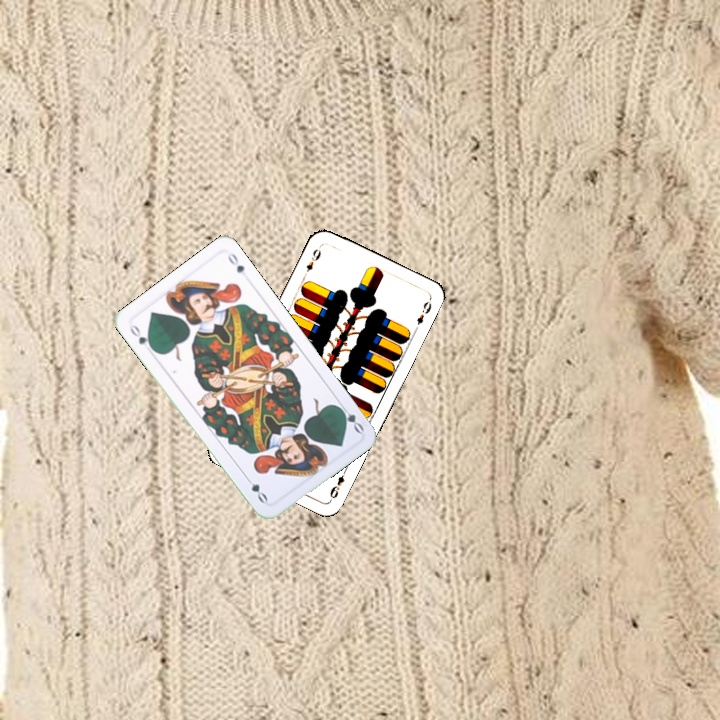E9: (326, 464, 350, 502), (302, 242, 324, 274)
GO: (334, 399, 367, 436), (125, 320, 157, 353)
